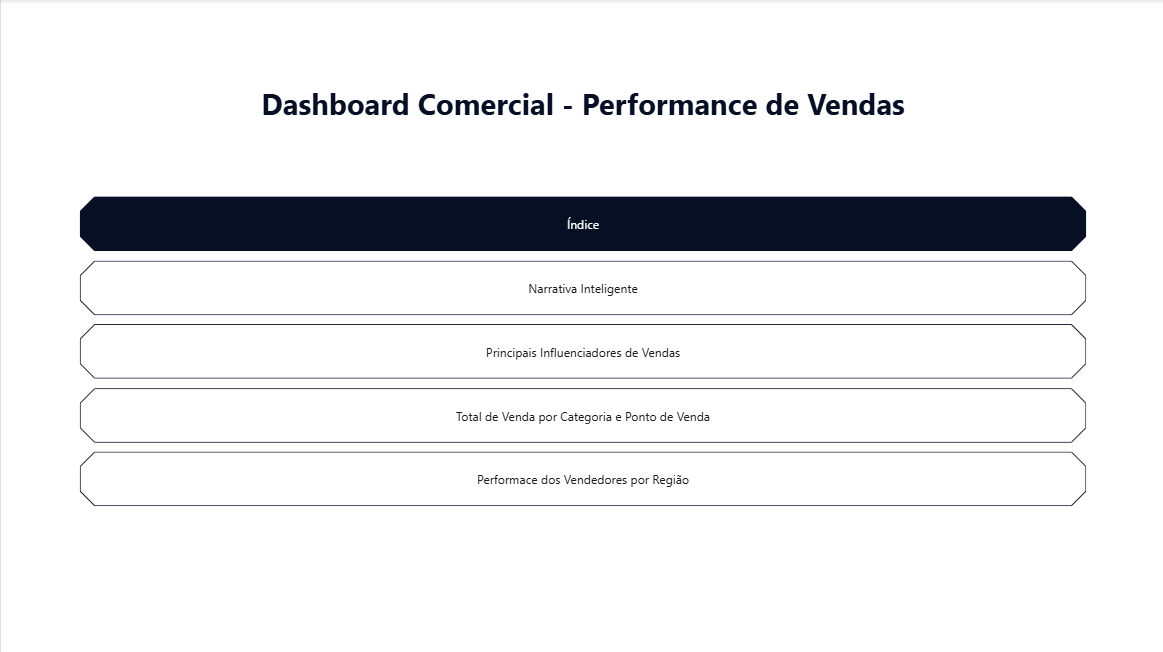

Layout of this report page (visuals, bound fields, positions):
{"tool":"powerbi","page":{"name":"Índice","canvas":[1280,720],"ordinal":0},"visuals":[{"type":"pageNavigator","box":[86.8,217.1,1105.2,344.6],"z":0},{"type":"textbox","box":[86.8,88.2,1105.2,85.4],"z":1000}]}

Visuals, with their boxes in screenshot pixels (x1, y1, x2, y2), scaled from the page's 1280x720 canvas onto the 1163x652 screenshot:
pageNavigator: 79, 197, 1083, 509
textbox: 79, 80, 1083, 157
